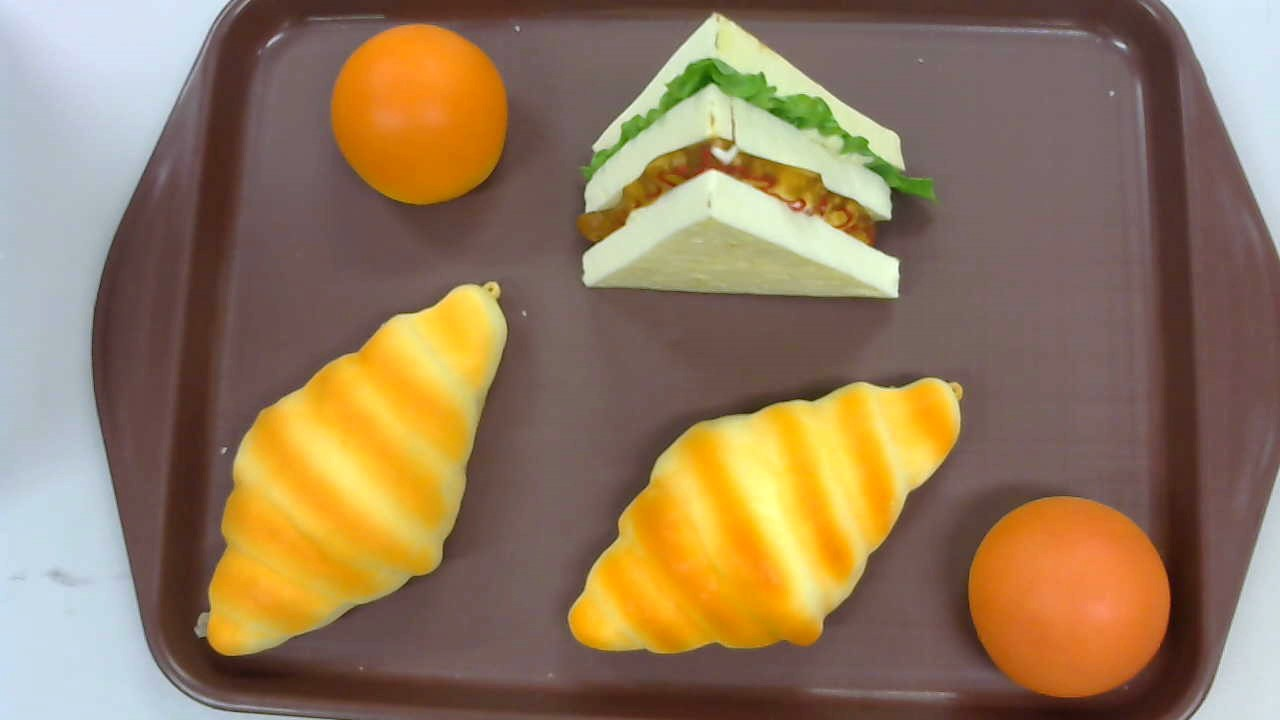bun: (968, 497, 1170, 697), (331, 23, 509, 205)
croissant: (206, 278, 508, 656), (566, 378, 964, 653)
sandwich: (577, 9, 944, 299)
